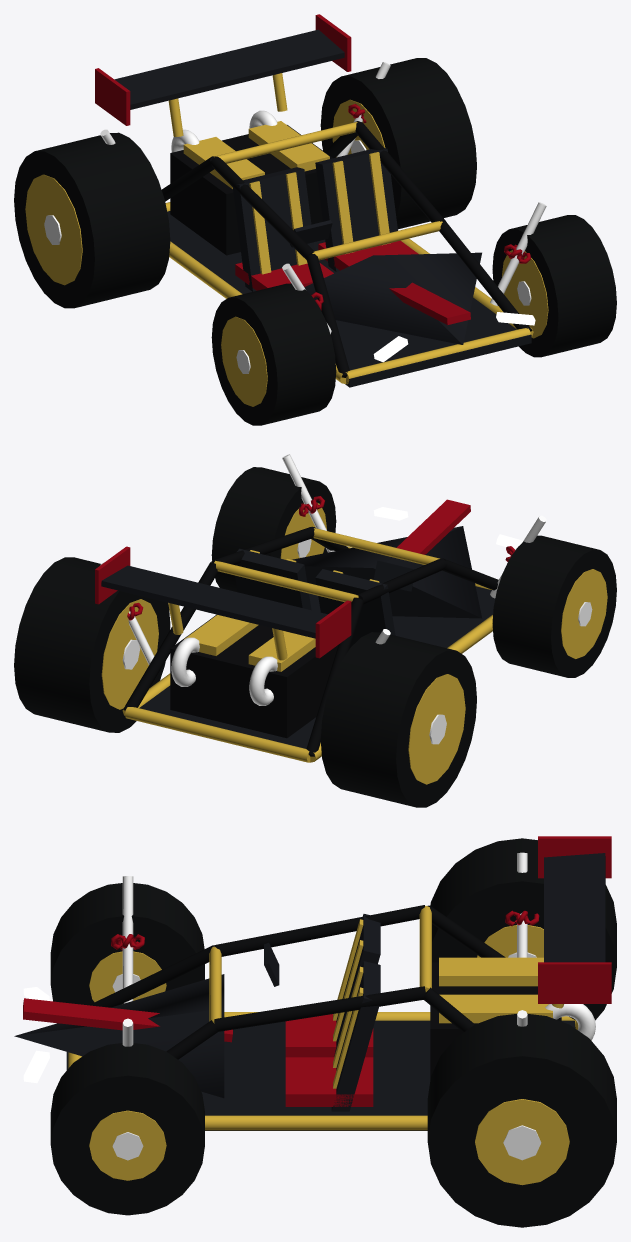
File: apex_stealth_buggy.glb
The picture shows the model from 3 angles, top to bottom: view 1: azimuth 30°, elevation 25°; view 2: azimuth 150°, elevation 25°; view 3: azimuth 270°, elevation 25°; orthographic projection. The views are drawn at different scales.
Parts seen in each view (by area): view 1: Apex_Stealth_Buggy; view 2: Apex_Stealth_Buggy; view 3: Apex_Stealth_Buggy.
Boxes of the visible parts, x1,y1,x2,y2 form: Apex_Stealth_Buggy: (14, 14, 616, 425); Apex_Stealth_Buggy: (14, 454, 616, 807); Apex_Stealth_Buggy: (14, 836, 616, 1227).
Size of the model in its own units: 2.97 by 1.38 by 3.44.
